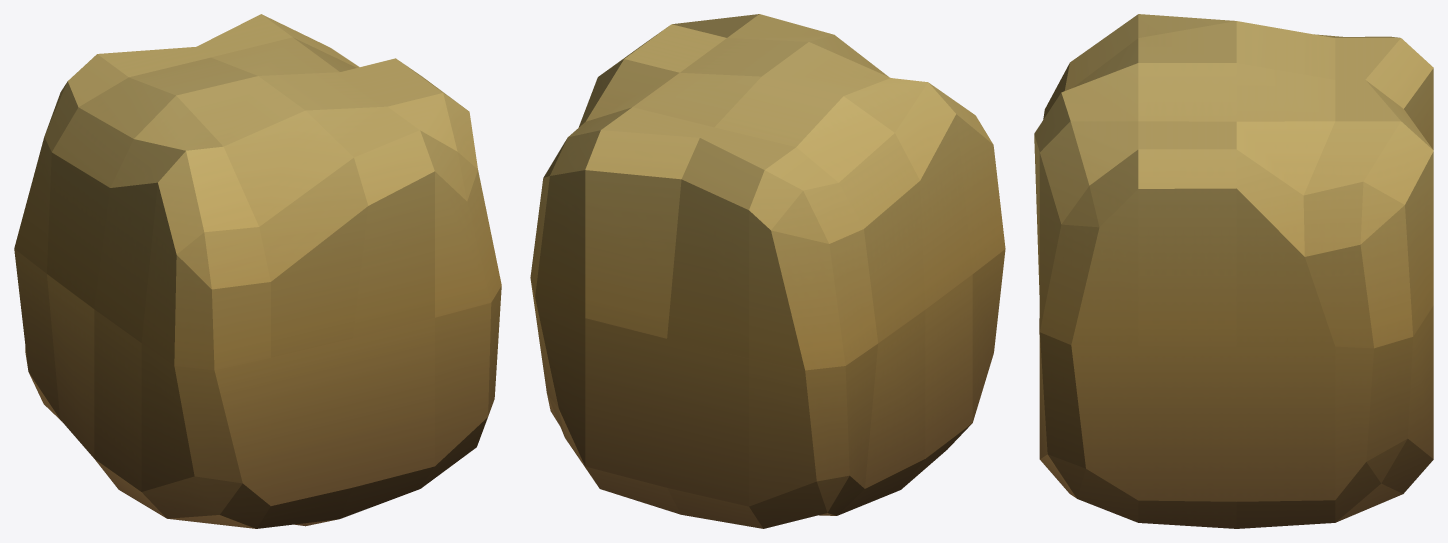
The model's file is LittleRock.fbx.
3 views of the same model, side by side, from view 1: azimuth 30°, elevation 25°; view 2: azimuth 150°, elevation 25°; view 3: azimuth 270°, elevation 25° (orthographic). The views are drawn at different scales.
Parts seen in each view (by area): view 1: Cube; view 2: Cube; view 3: Cube.
Part boxes in pixels (x1=…): Cube: x1=14, y1=14, x2=501, y2=528; Cube: x1=530, y1=14, x2=1005, y2=528; Cube: x1=1034, y1=14, x2=1433, y2=528.
Bounding box in the file's own units: 140 × 174 × 142.
